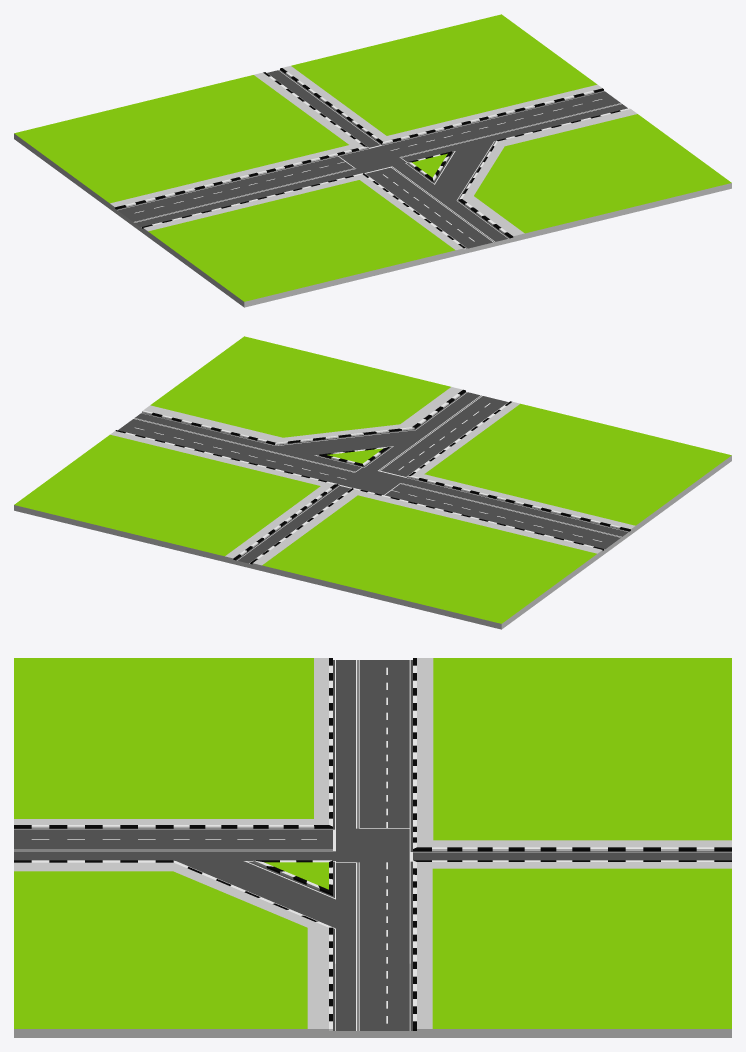
File: Level3Road.FBX
3 renders of one model, top to bottom at view 1: azimuth 30°, elevation 25°; view 2: azimuth 150°, elevation 25°; view 3: azimuth 270°, elevation 25°, orthographic. The views are drawn at different scales.
Visible parts, largest first — view 1: level 3 road; view 2: level 3 road; view 3: level 3 road.
Boxes of the visible parts, bbox=[...] form: level 3 road: bbox=[14, 14, 731, 307]; level 3 road: bbox=[14, 336, 731, 629]; level 3 road: bbox=[14, 658, 731, 1037].
Size of the model in its own units: 4547 by 51.18 by 3720.
